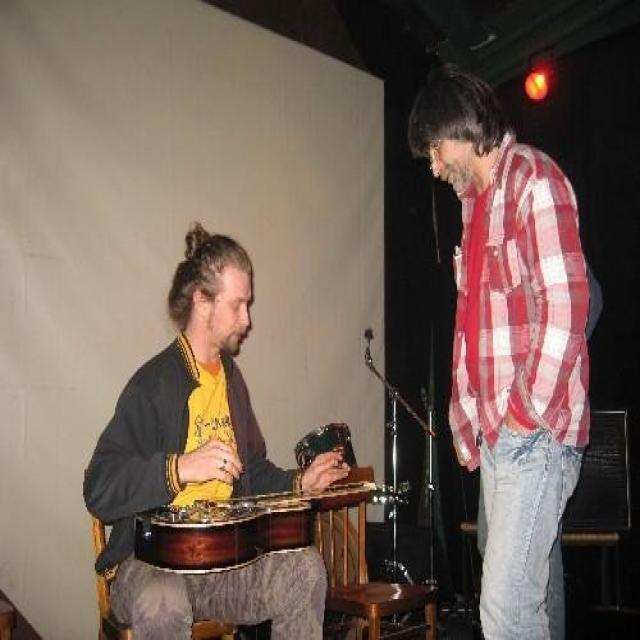guitar: (130, 469, 411, 569)
